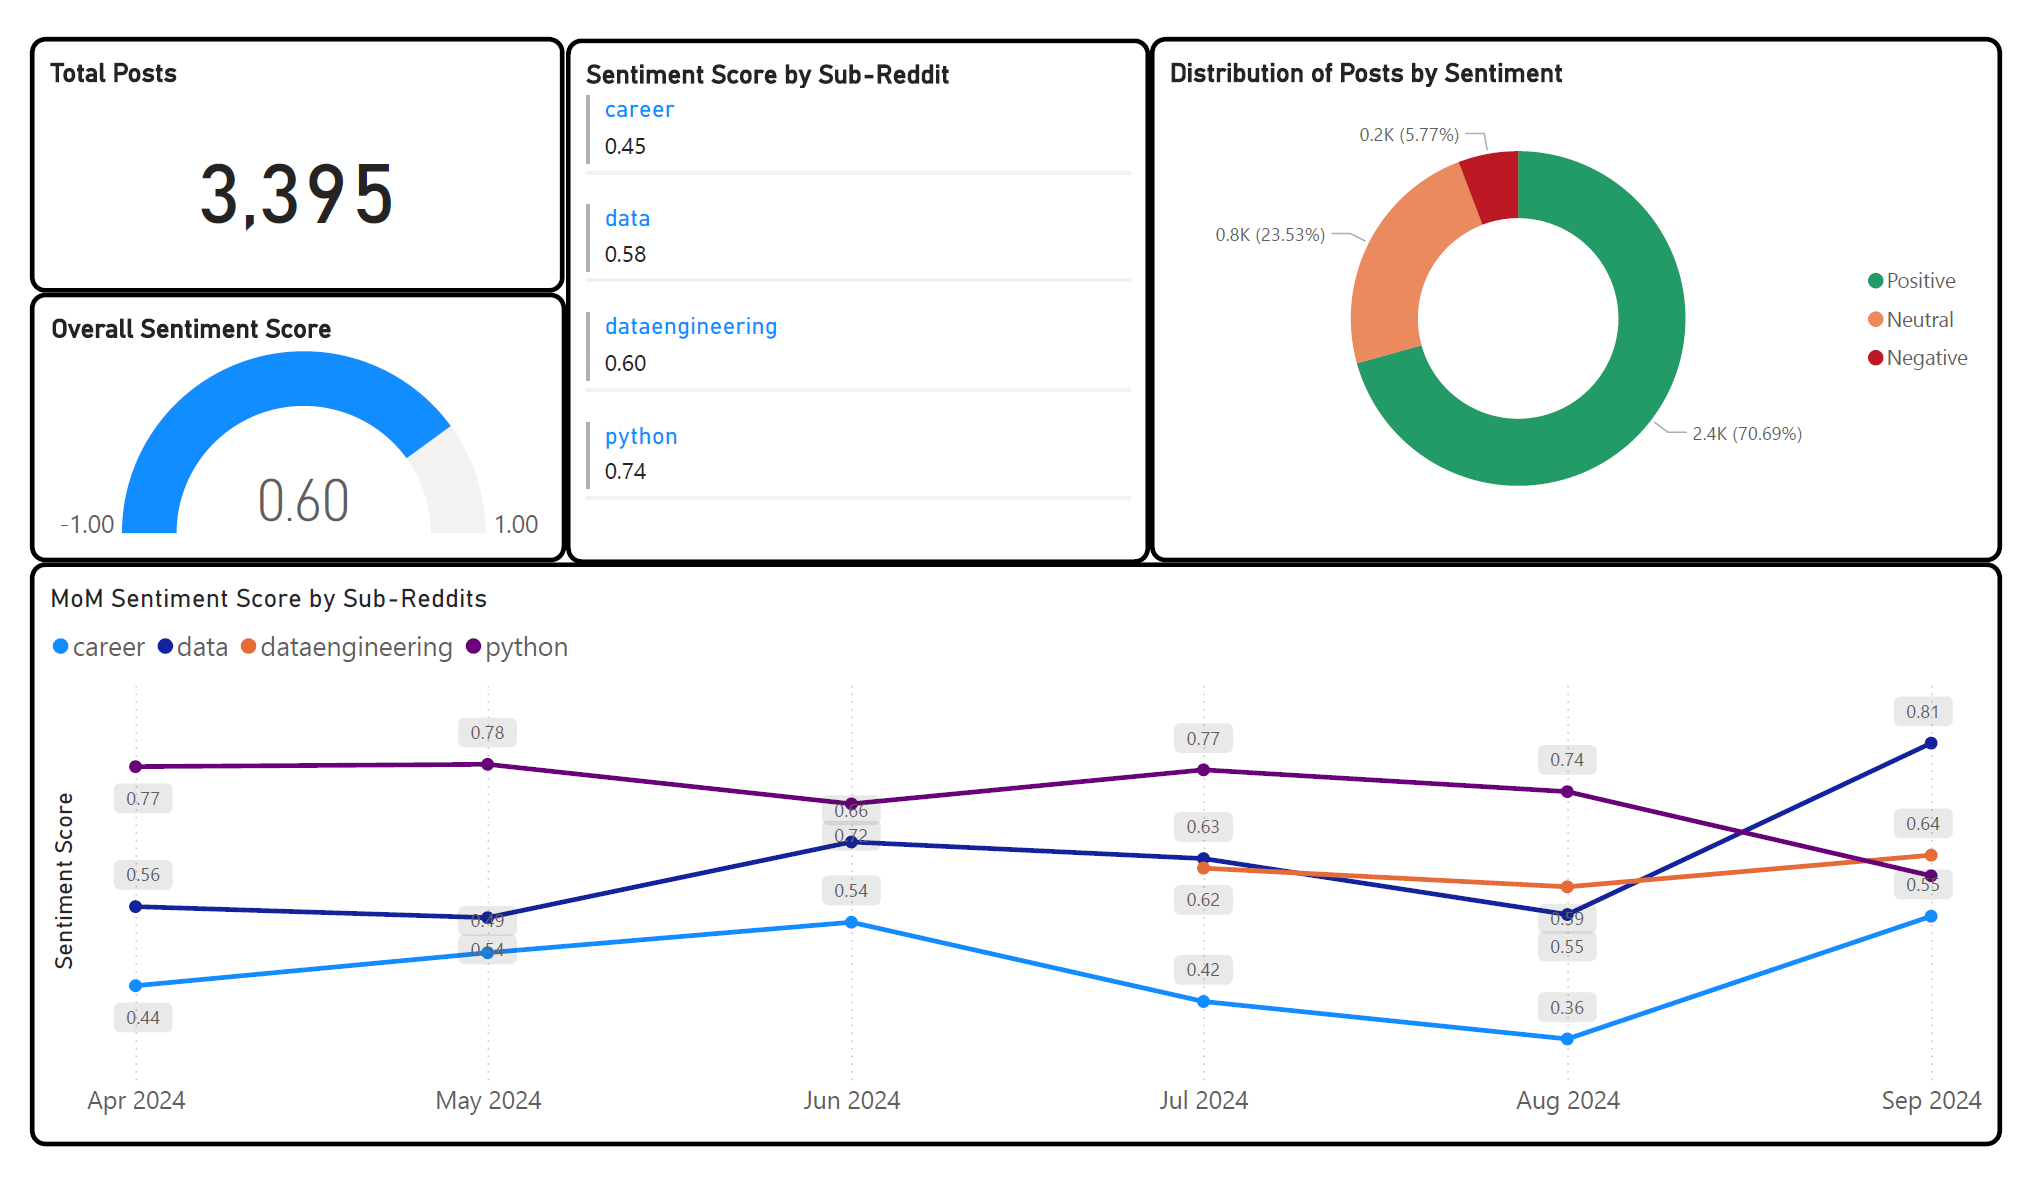

What the dashboard file says about the page in this screenshot:
{"tool":"powerbi","page":{"name":"Page 1","canvas":[1280,720],"ordinal":0},"visuals":[{"type":"lineChart","title":"MoM Sentiment Score by Sub-Reddits","fields":{"Y":["Avg(public r_posts.sentiment_score)"],"Category":["public r_posts.created_at.Variation.Date Hierarchy.Year","public r_posts.created_at.Variation.Date Hierarchy.Quarter","public r_posts.created_at.Variation.Date Hierarchy.Month"],"Series":["public r_posts.sub_reddit"]},"box":[0,341,1280,379],"z":0},{"type":"donutChart","title":"Distribution of Posts by Sentiment","fields":{"Category":["public r_posts.sentiment_score_flag"],"Y":["CountNonNull(public r_posts.post_id)"]},"box":[727.1,0,552.9,341.4],"z":1000},{"type":"gauge","title":"Overall Sentiment Score","fields":{"Y":["Avg(public r_posts.sentiment_score)"]},"box":[0,165.8,347.7,175.5],"z":2000},{"type":"multiRowCard","title":"Sentiment Score by Sub-Reddit","fields":{"Values":["public r_posts.sub_reddit","Avg(public r_posts.sentiment_score)"]},"box":[347.7,1.1,379.8,341.3],"z":3000},{"type":"card","title":"Total Posts","fields":{"Values":["public r_posts.PostIDCount"]},"box":[0,0,347.3,165.8],"z":4000}]}

Visuals, with their boxes in screenshot pixels (x1, y1, x2, y2), scaled from the page's 1280x720 canvas onto the 2039x1180 screenshot:
"MoM Sentiment Score by Sub-Reddits" lineChart: 0, 559, 2038, 1179
"Distribution of Posts by Sentiment" donutChart: 1158, 0, 2038, 560
"Overall Sentiment Score" gauge: 0, 272, 554, 559
"Sentiment Score by Sub-Reddit" multiRowCard: 554, 2, 1159, 561
"Total Posts" card: 0, 0, 553, 272
